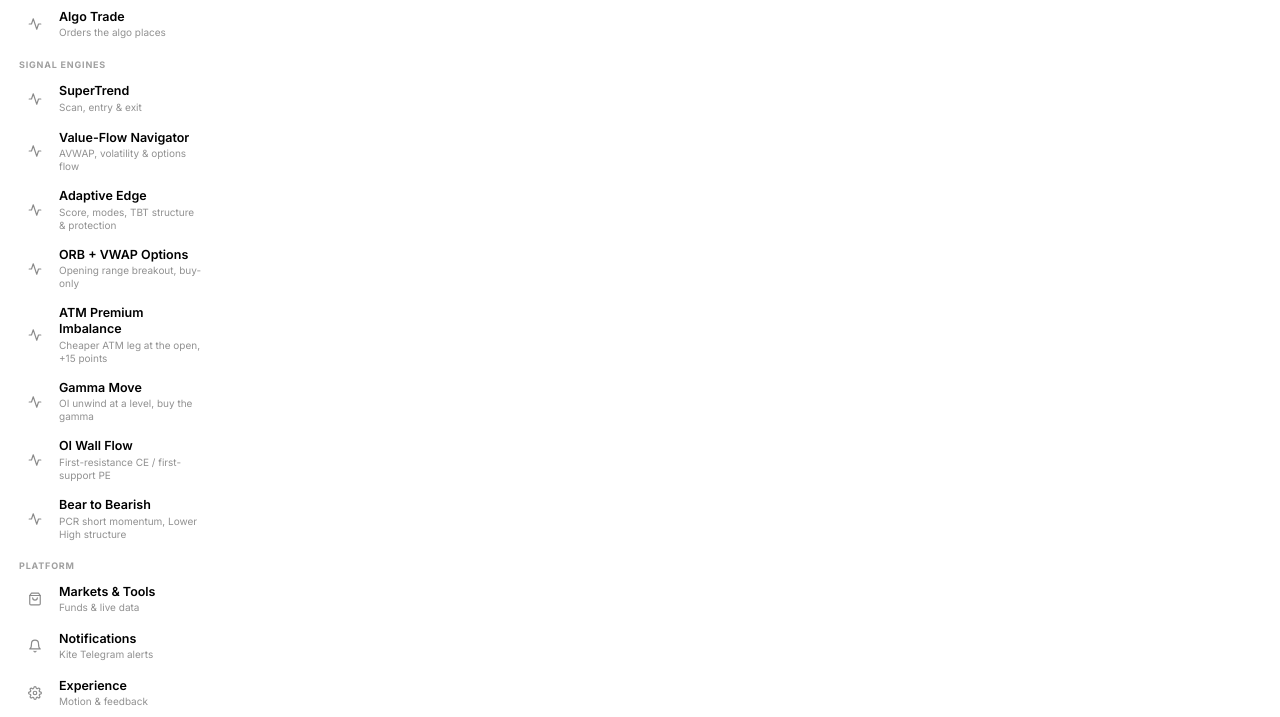
Test case: ConnectPane — every option engine is reachable and complete › gives Gamma Move a home in the rail
This screenshot has width=1280, height=717.
(page scrolled)
Click the button "Gamma Move OI unwind at a level, buy the gamma" at (110, 402), box [8,373,212,430]
(page scrolled)
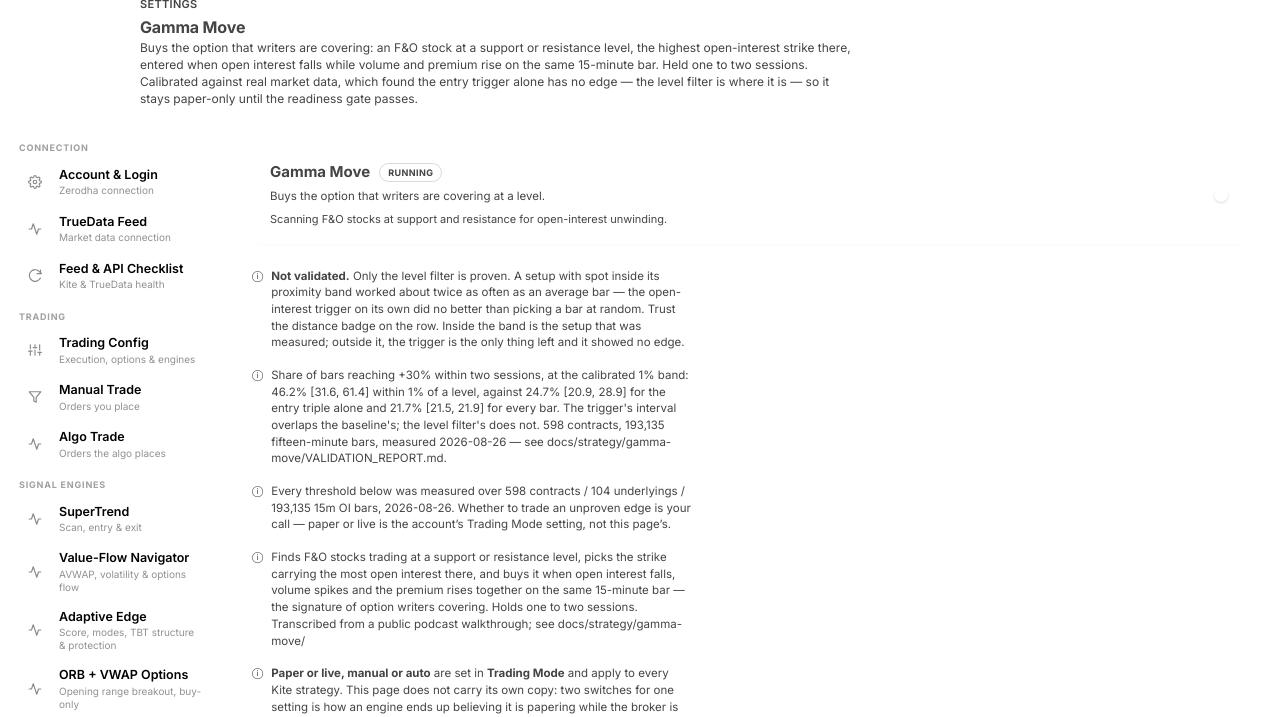
Result: the heading "Gamma Move" is shown at [140,16,245,36]
